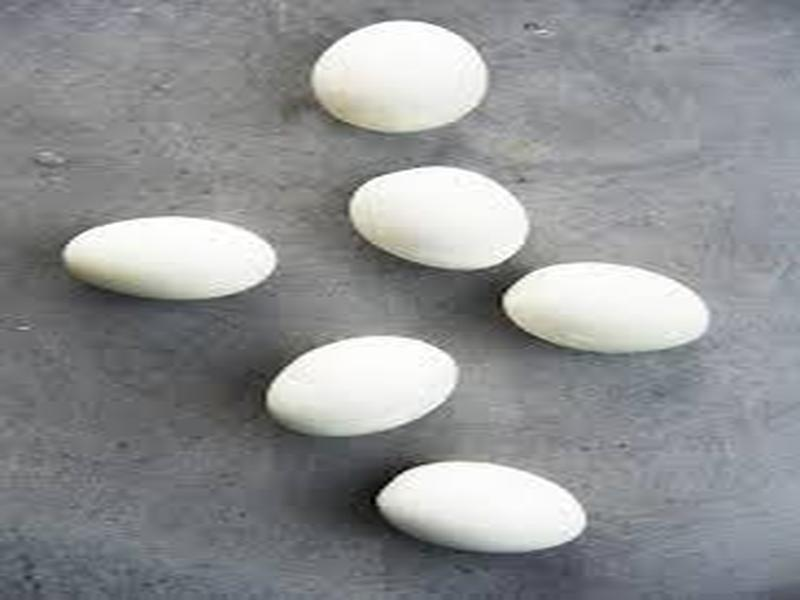egg: (262, 338, 462, 436)
